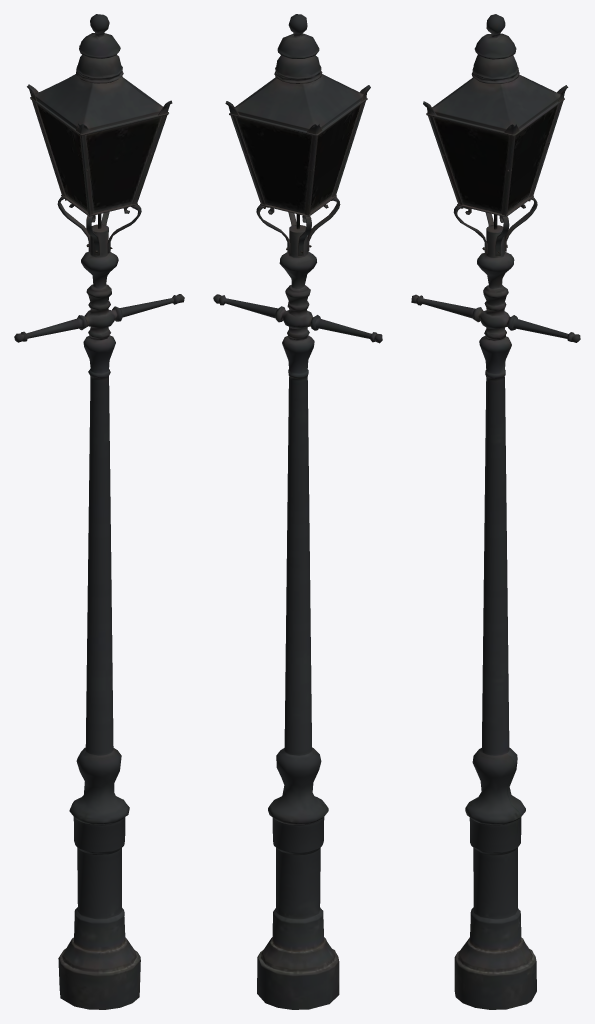
Rendered from farola-lod.glb.
3 renders of one model, left to right at view 1: azimuth 30°, elevation 25°; view 2: azimuth 150°, elevation 25°; view 3: azimuth 330°, elevation 25°, orthographic.
Parts seen in each view (by area): view 1: street_lamp_01; view 2: street_lamp_01; view 3: street_lamp_01.
Boxes of the visible parts, x1=… form: street_lamp_01: x1=14, y1=14, x2=184, y2=1009; street_lamp_01: x1=213, y1=14, x2=382, y2=1009; street_lamp_01: x1=411, y1=14, x2=580, y2=1009.
Bounding box in the file's own units: 0.7021 × 3.87 × 0.3862.
2 materials, 2 textured.
